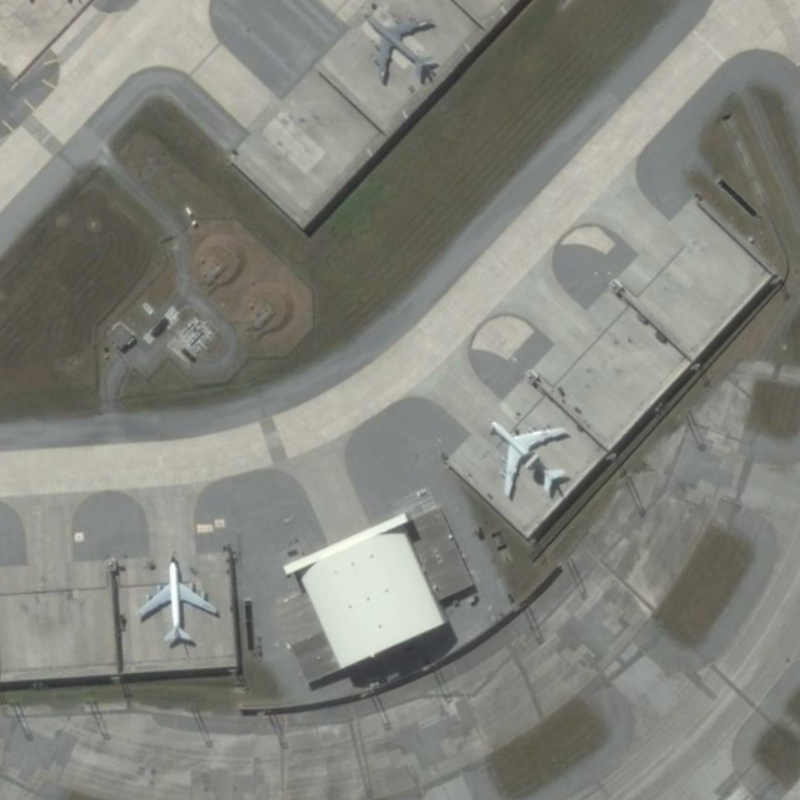A11: (131, 550, 225, 649)
A14: (355, 5, 444, 90)
A7: (481, 414, 581, 506)
